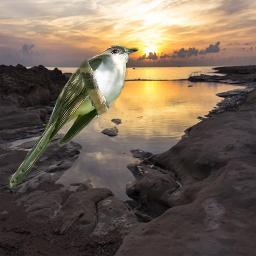Cuckoo: (7, 44, 139, 192)
